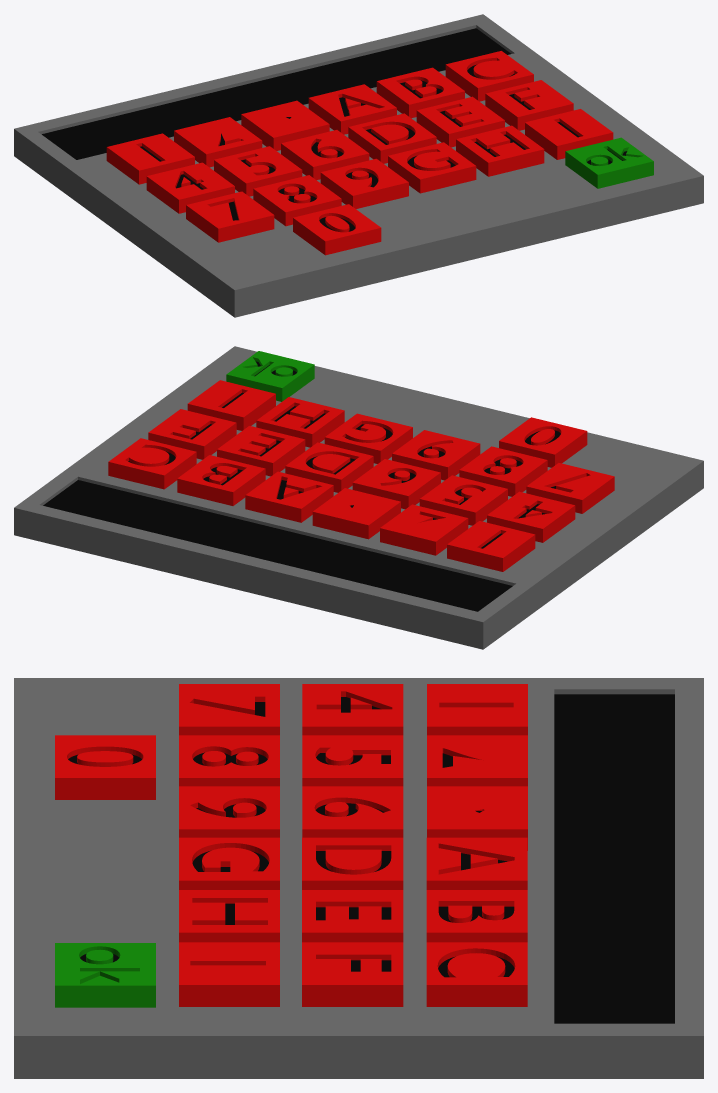
Rendered from code_letter_panel.fbx.
The picture shows the model from 3 angles, top to bottom: view 1: azimuth 30°, elevation 25°; view 2: azimuth 150°, elevation 25°; view 3: azimuth 270°, elevation 25°; orthographic projection. The views are drawn at different scales.
Visible parts, largest first — view 1: Plane, enter, 7, 0, H, G, 9, 1, 4, I, C, B (+9 smaller); view 2: Plane, 1, C, B, A, 3, 2, 4, 7, enter, 0, F (+9 smaller); view 3: Plane, C, F, enter, 0, I, A, D, B, E, G, H (+9 smaller).
Boxes of the visible parts, box(x1,y1,x2,y2) form: Plane: box(14, 14, 703, 317); enter: box(565, 137, 653, 188); 7: box(186, 191, 274, 242); 0: box(293, 204, 381, 255); H: box(456, 125, 544, 176); G: box(388, 142, 476, 193); 9: box(320, 158, 408, 208); 1: box(106, 133, 194, 184); 4: box(146, 162, 234, 213); I: box(525, 109, 613, 159); C: box(445, 51, 533, 101); B: box(376, 67, 464, 118); Plane: box(14, 346, 703, 649); 1: box(447, 521, 535, 571); C: box(108, 438, 196, 489); B: box(177, 455, 265, 505); A: box(245, 471, 333, 522); 3: box(312, 488, 400, 539); 2: box(380, 504, 468, 555); 4: box(487, 491, 575, 542); 7: box(526, 463, 614, 513); enter: box(226, 351, 314, 401); 0: box(499, 417, 587, 467); F: box(148, 409, 236, 459); Plane: box(14, 678, 703, 1078); C: box(426, 942, 527, 1006); F: box(302, 942, 403, 1006); enter: box(55, 943, 155, 1007); 0: box(55, 735, 155, 799); I: box(179, 942, 279, 1006); A: box(426, 837, 527, 889); D: box(302, 837, 403, 889); B: box(426, 890, 527, 942); E: box(302, 890, 403, 942); G: box(179, 837, 279, 889); H: box(179, 890, 279, 942).
Bounding box in the file's own units: 512 × 43.3 × 417.
